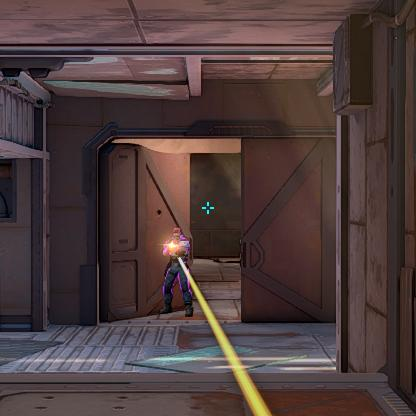enemyBody: (171, 241, 182, 262)
enemyHead: (174, 232, 180, 238)
